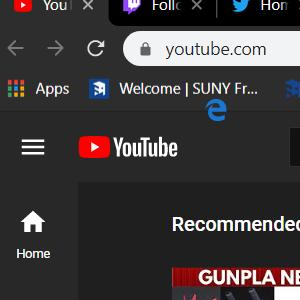edge: (204, 99, 227, 122)
